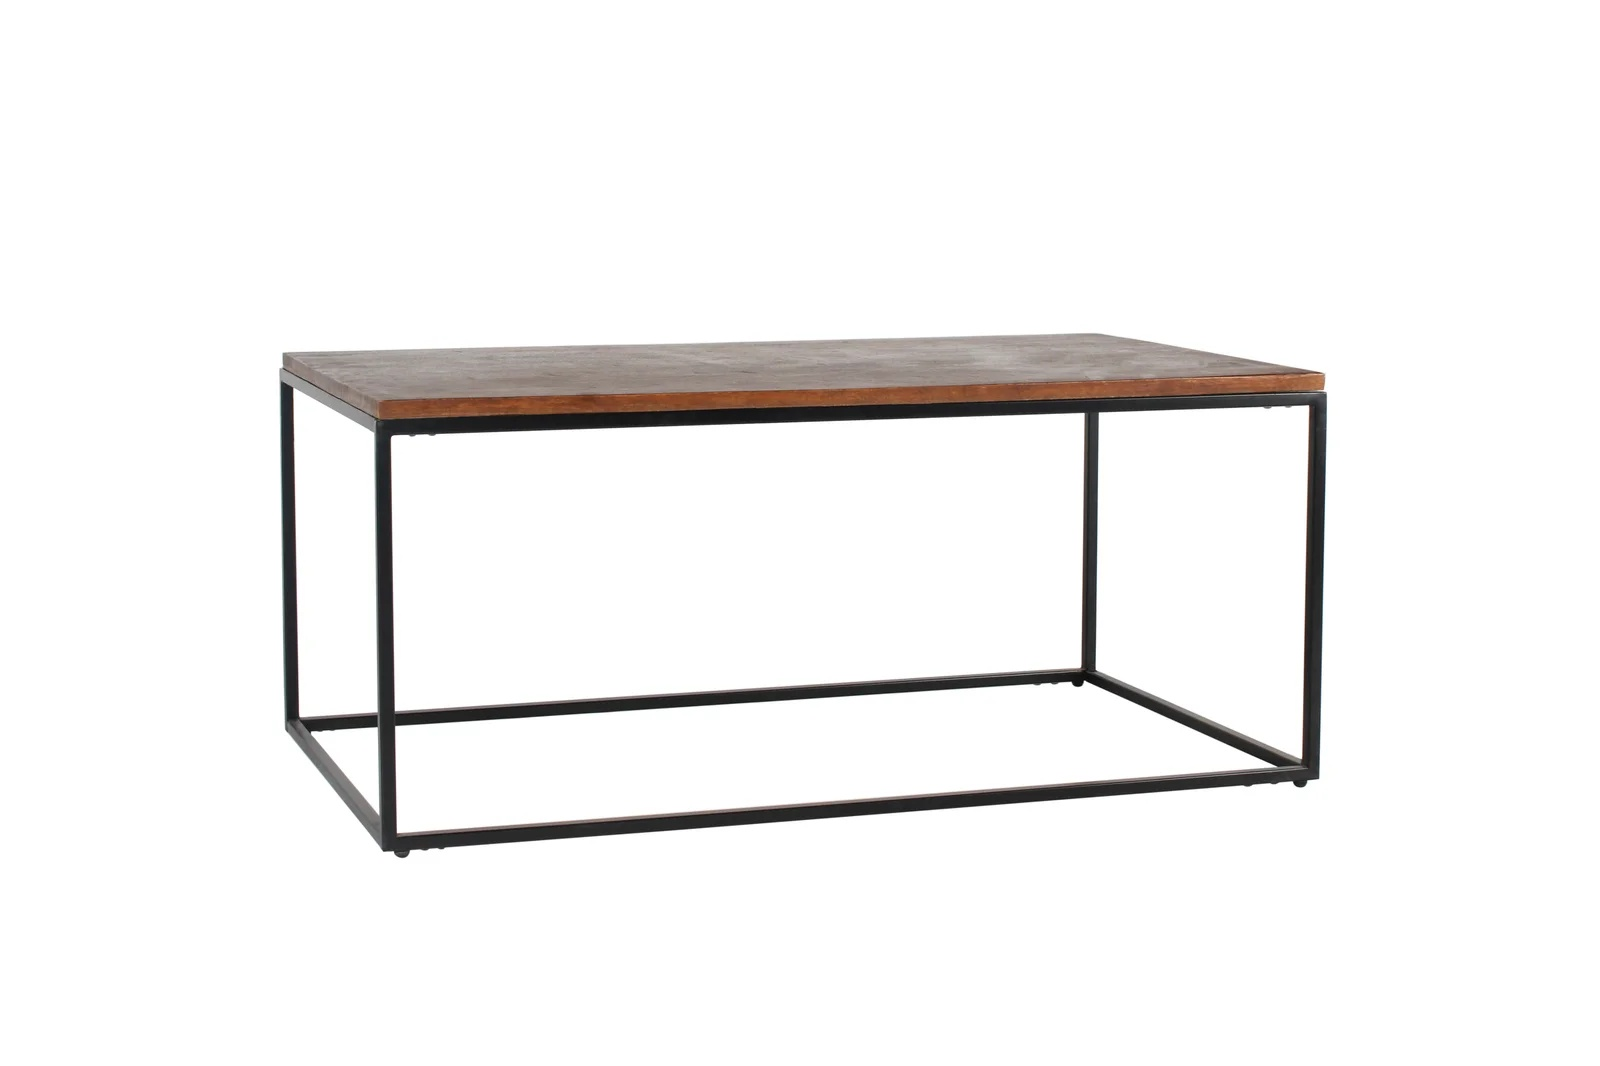obstacle: (280, 334, 1326, 855)
